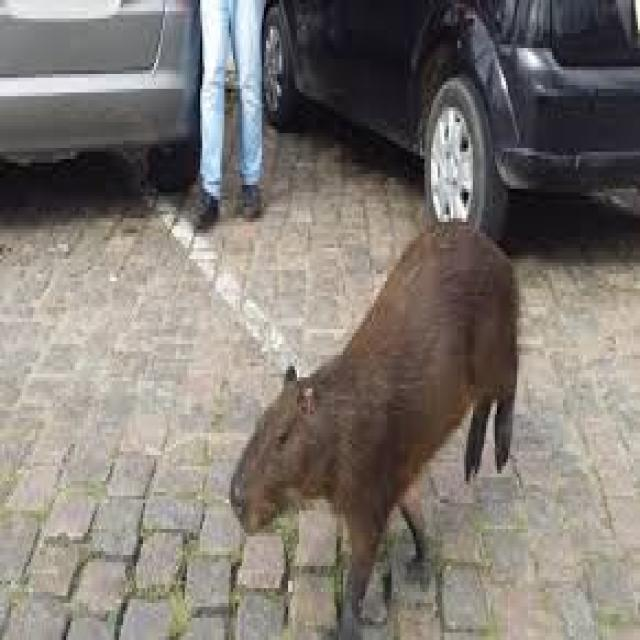capy: (230, 221, 520, 639)
